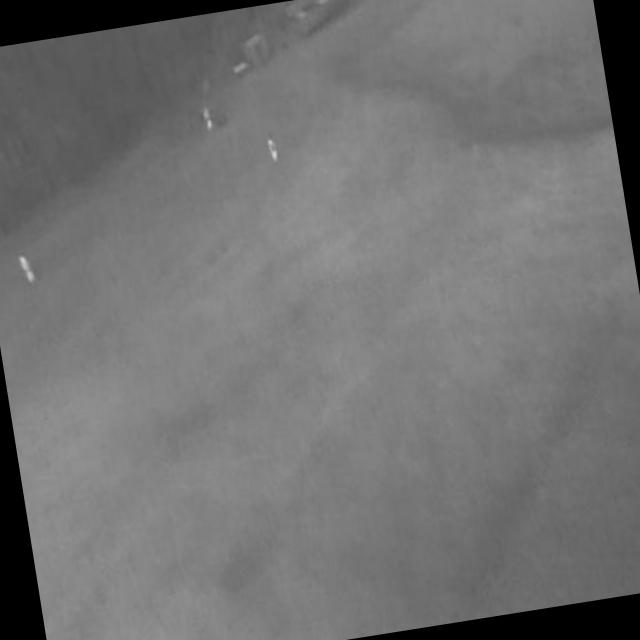person: (19, 255, 38, 287), (203, 108, 216, 134), (267, 139, 280, 164)
